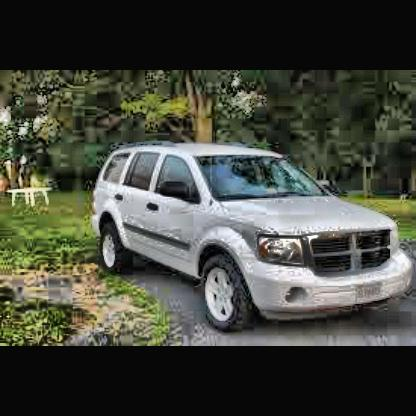Dodge Durango SUV 2007: (95, 144, 415, 336)
